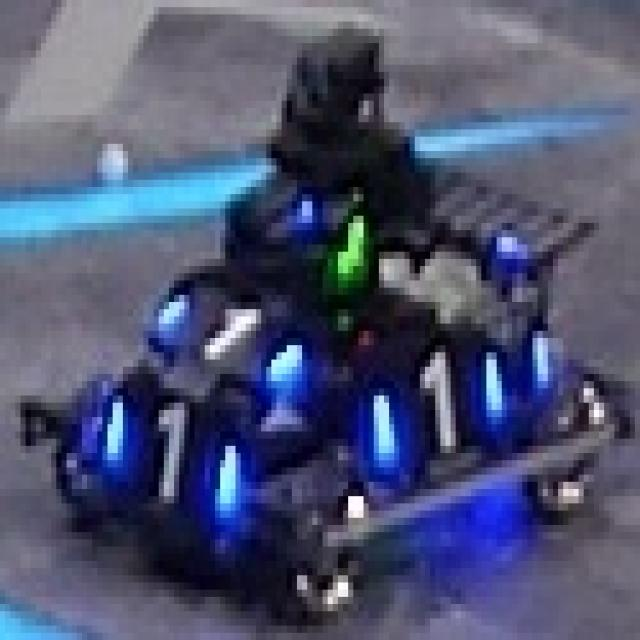B1: (82, 378, 246, 522), (356, 338, 509, 460), (148, 284, 312, 392)
